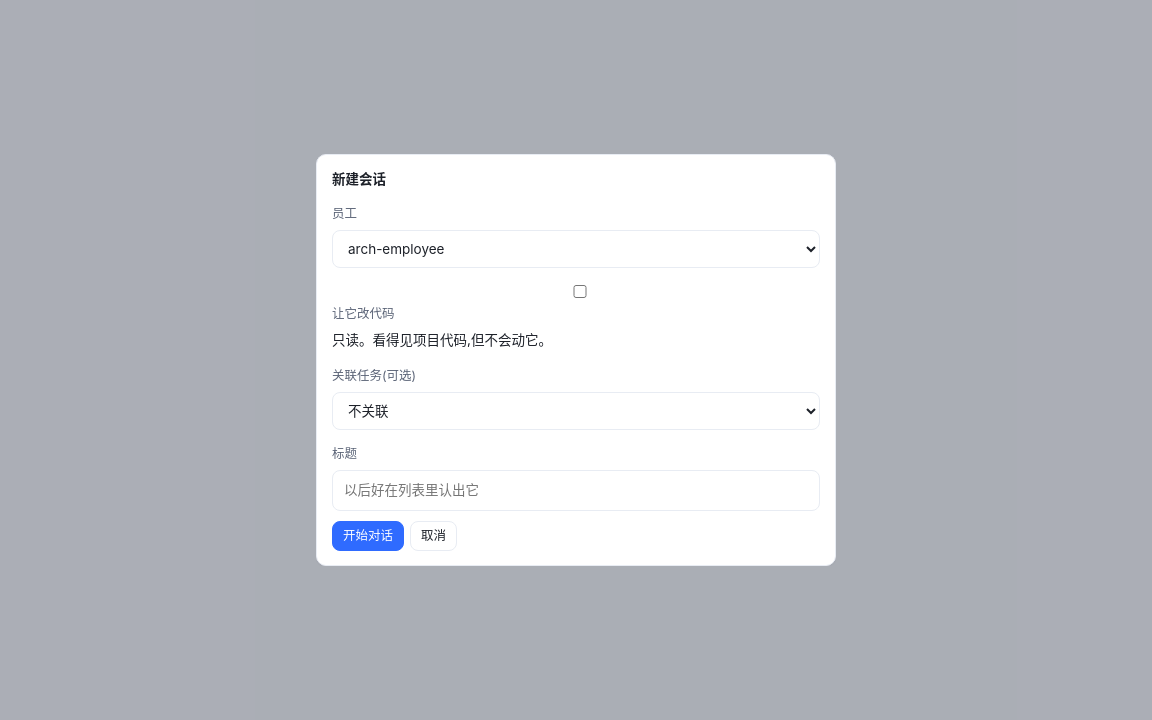
Test: NewSessionDialog › keeps a failure inside the dialog so it can be retried
The image size is (1152, 720).
Click the button "开始对话" at (368, 536), box [332,521,404,551]
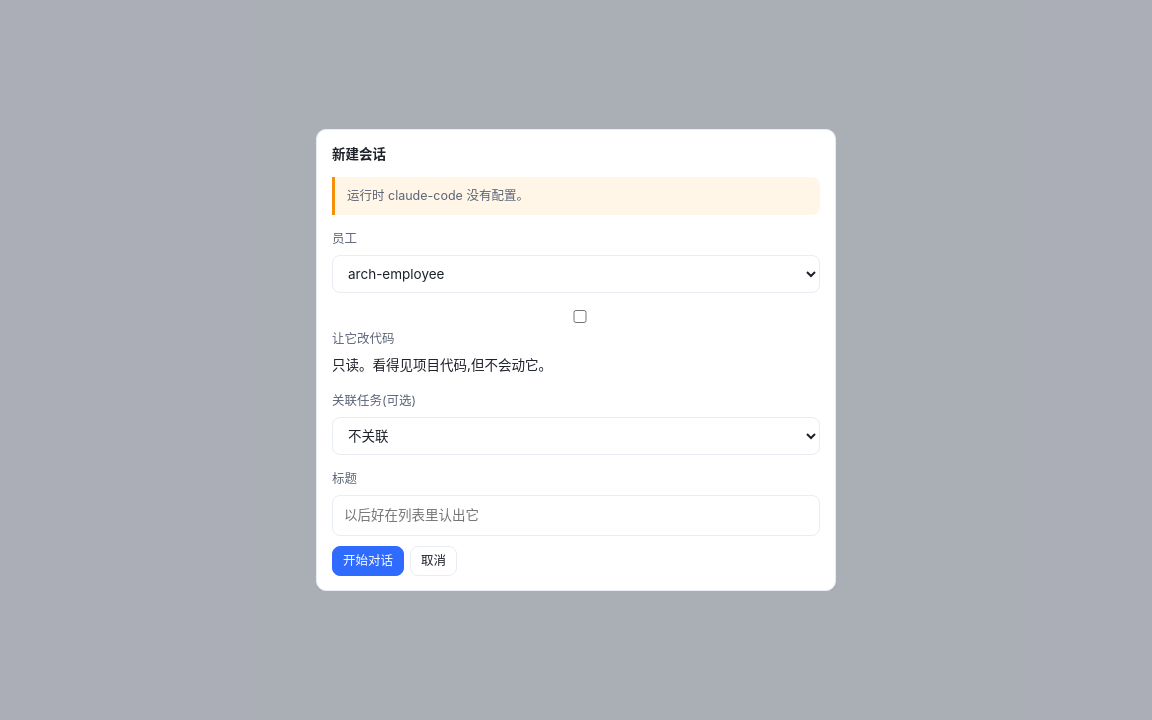
Expected: the button "开始对话" is shown, [332,546,404,576]
Result: the text "运行时 claude-code 没有配置。" is shown at [332,177,820,215]
